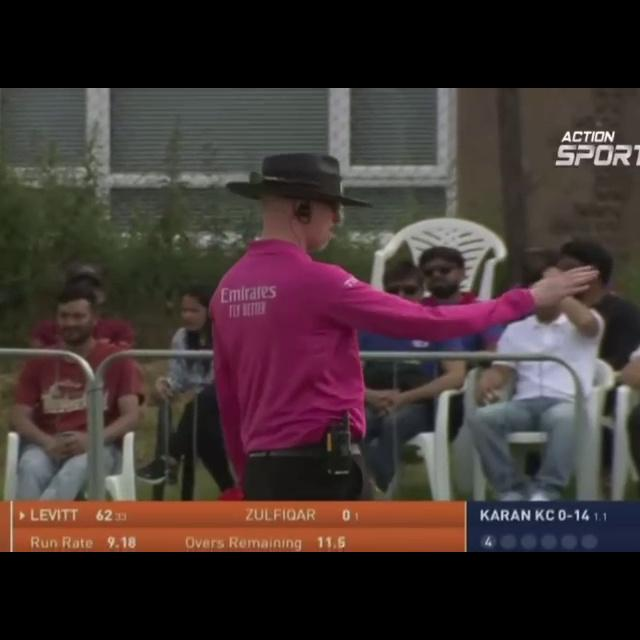umpire: (185, 146, 606, 504)
